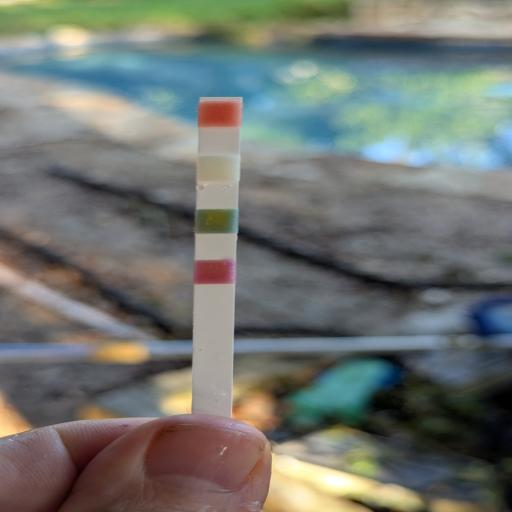strip: (191, 97, 244, 417)
